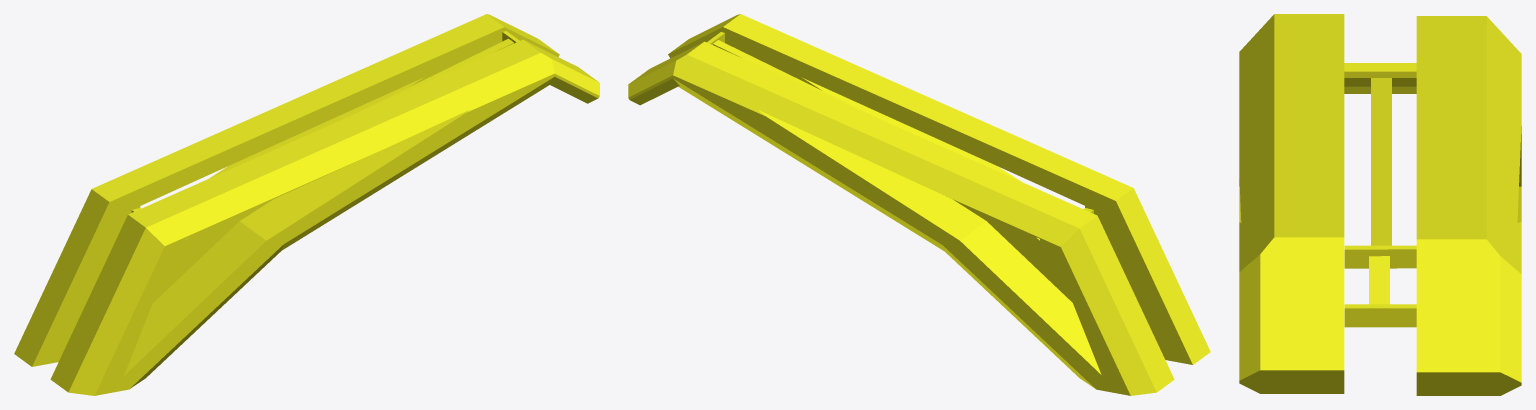
The model's file is arrow.fbx.
The picture shows the model from 3 angles, left to right: view 1: azimuth 30°, elevation 25°; view 2: azimuth 150°, elevation 25°; view 3: azimuth 270°, elevation 25°; orthographic projection. The views are drawn at different scales.
Visible parts, largest first — view 1: Body1; view 2: Body1; view 3: Body1.
Boxes of the visible parts, x1=… form: Body1: x1=14, y1=14, x2=599, y2=395; Body1: x1=628, y1=14, x2=1210, y2=395; Body1: x1=1239, y1=14, x2=1521, y2=395.
Bounding box in the file's own units: 0.5279 × 0.22 × 0.125.
